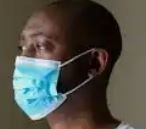with_facemask: (9, 58, 72, 108)
